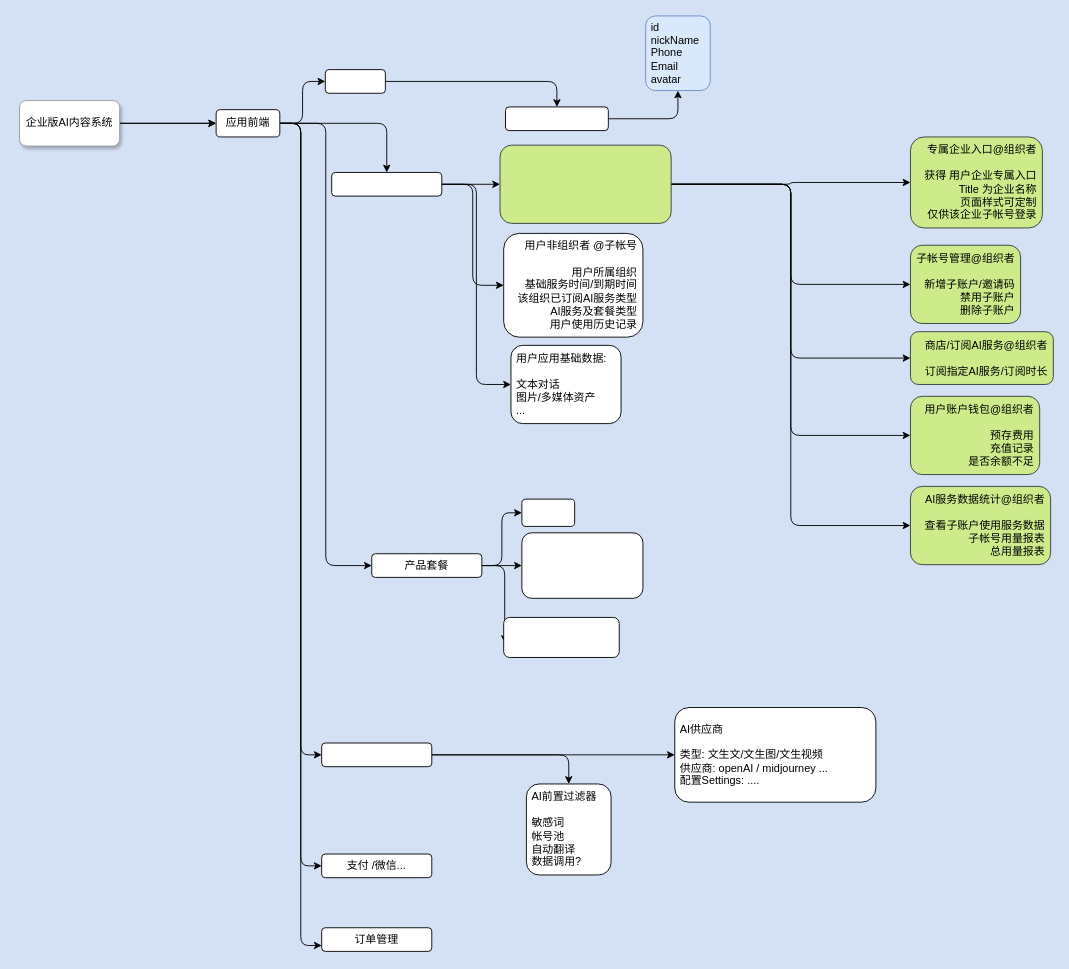
Some shapes in this 1069 by 969 pixel diagram are drawn without their labels. Each missing label, with the centre of its shape:
"AI服务订阅套餐 / 年 费用/预存费用" goes at (561,637).
"企业身份验证 @组织者 用户企业身份验证 / 可选 提交营业执照等企业信息 / 可选 是否已签订合同 / 可选" goes at (585,183).
"可调用AI服务" goes at (376,754).
"基础费用(座席费) /年 1. Basic 5人以下 2. Pro 5-20人 3. 20人以上" goes at (582,565).
"手机号/email 注册" goes at (556,118).
"用户 数据" goes at (386,184).
"用户注册" goes at (354,81).
"试用期" goes at (548,512).
